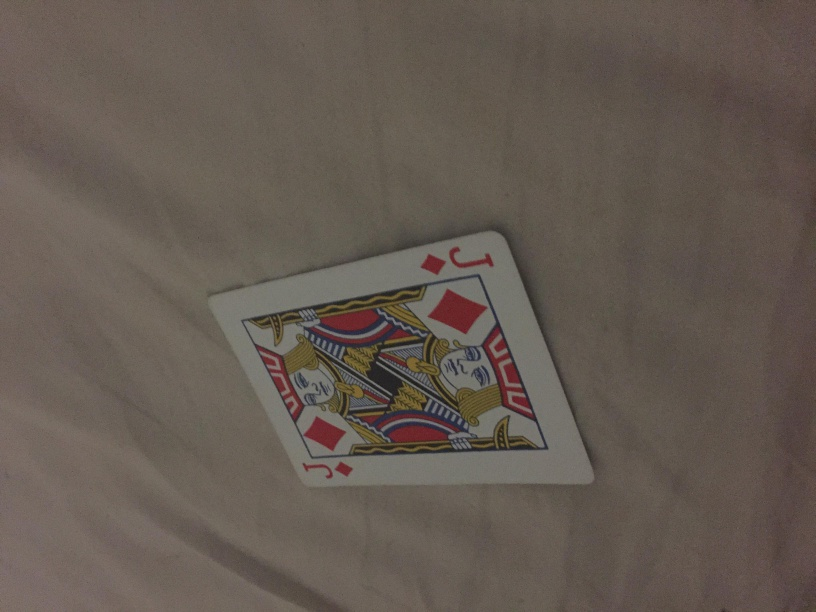jack: (204, 229, 596, 486)
